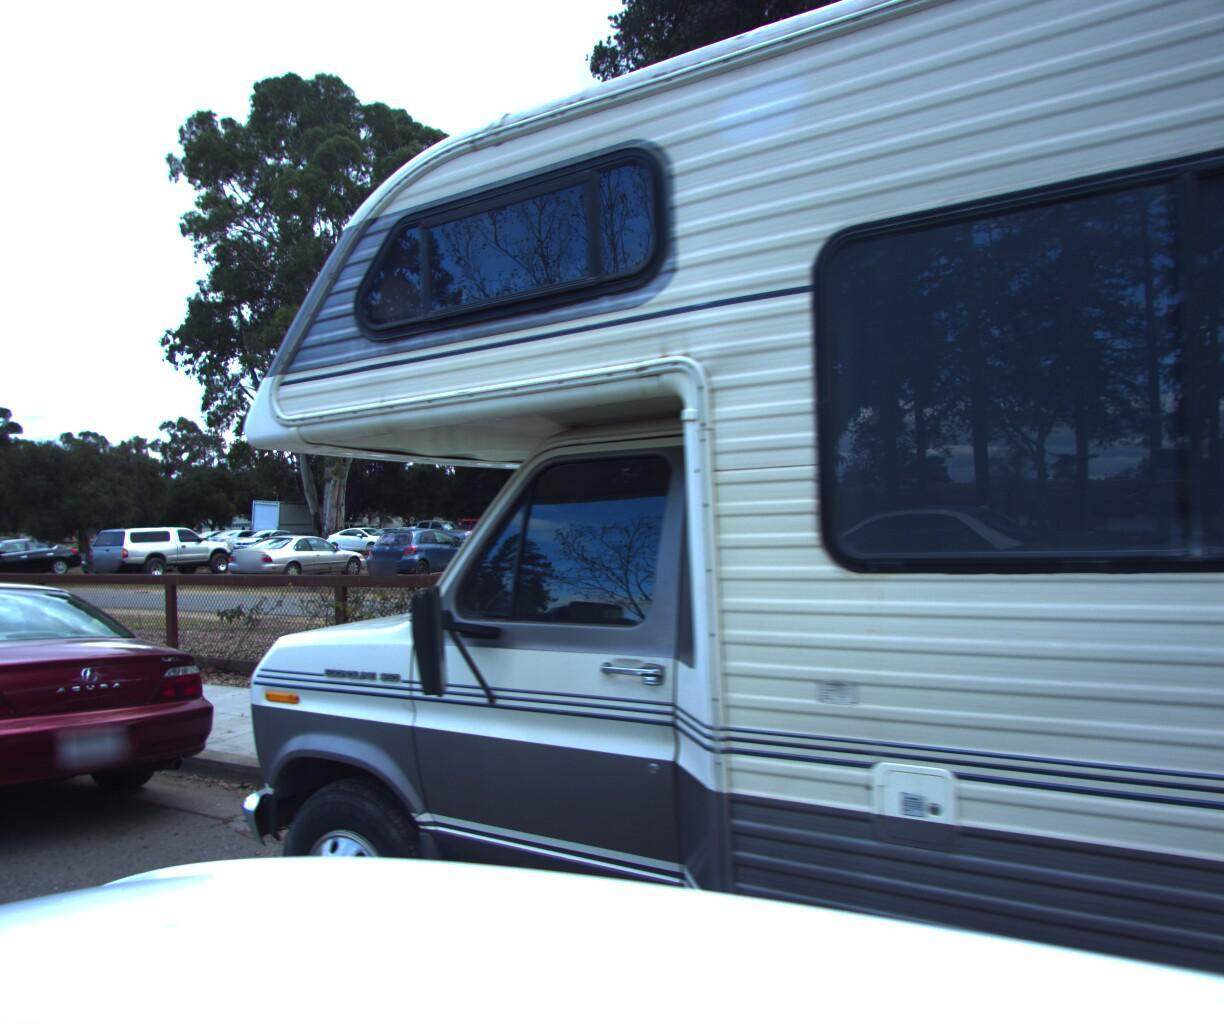car: (0, 565, 234, 926)
